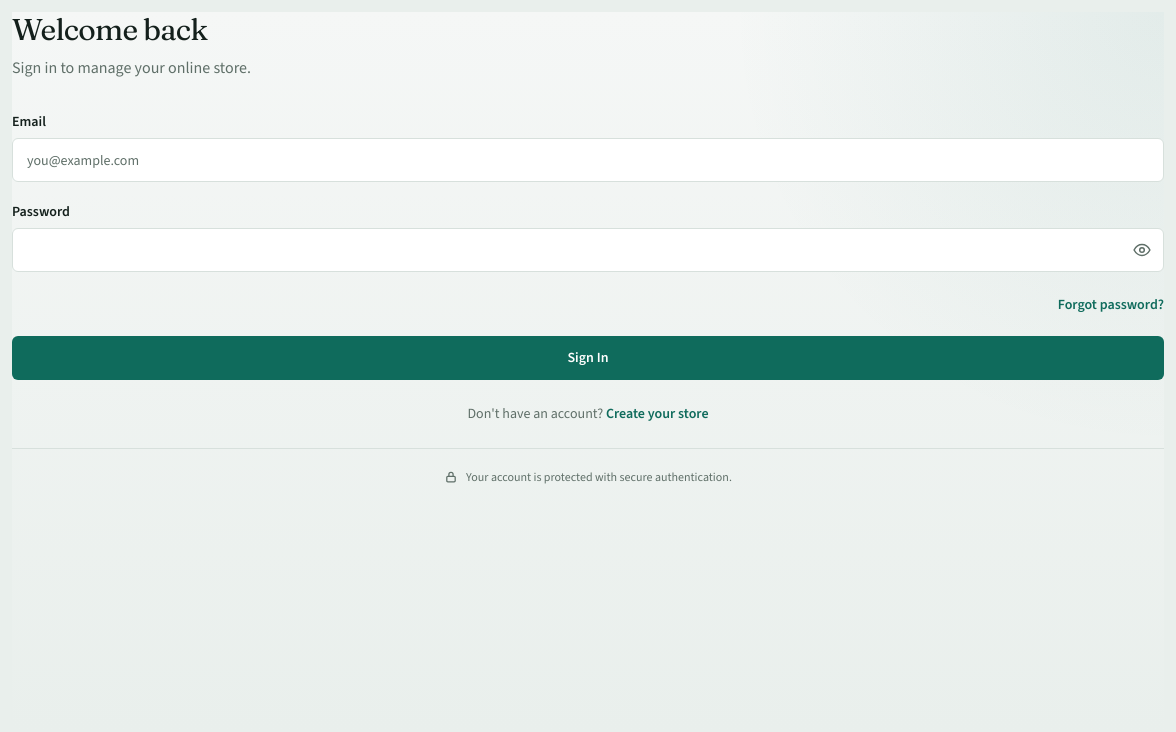
Test case: Login form › shows a friendly message for invalid credentials
Type "merchant@example.com" into the field labelled "Email" at (588, 160), box [12, 138, 1164, 182]
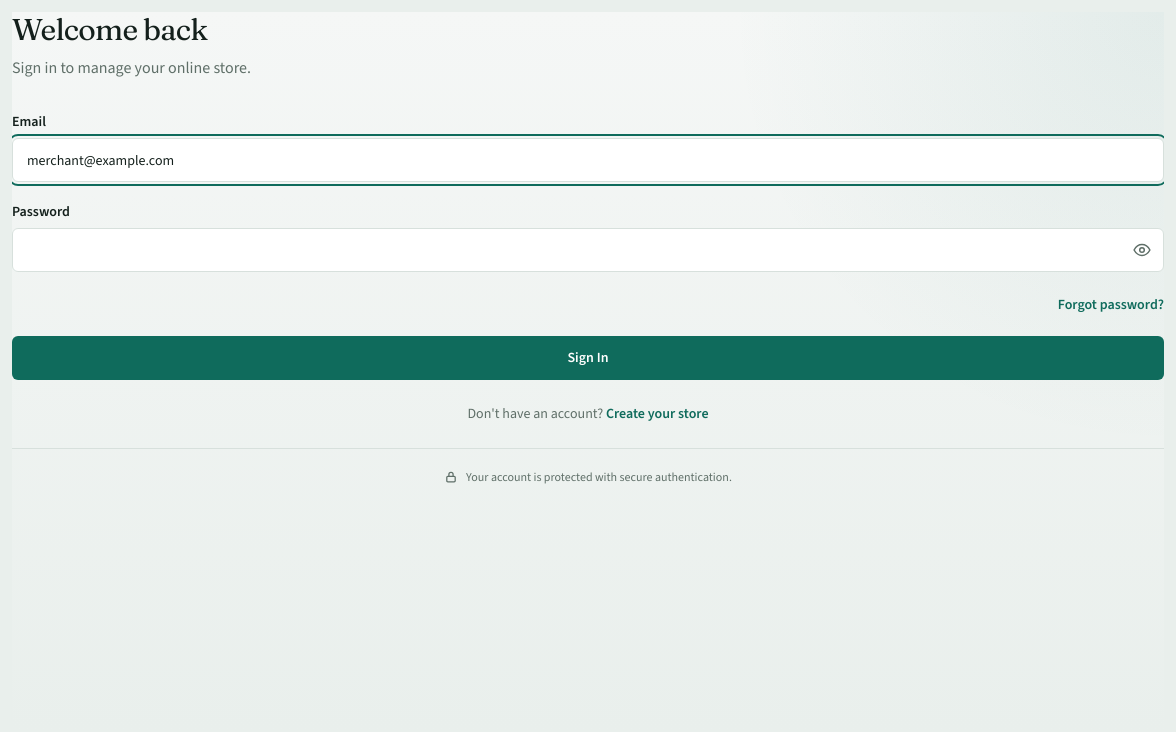
Type "wrong" into the password field labelled "Password" at (588, 250), box [12, 228, 1164, 272]
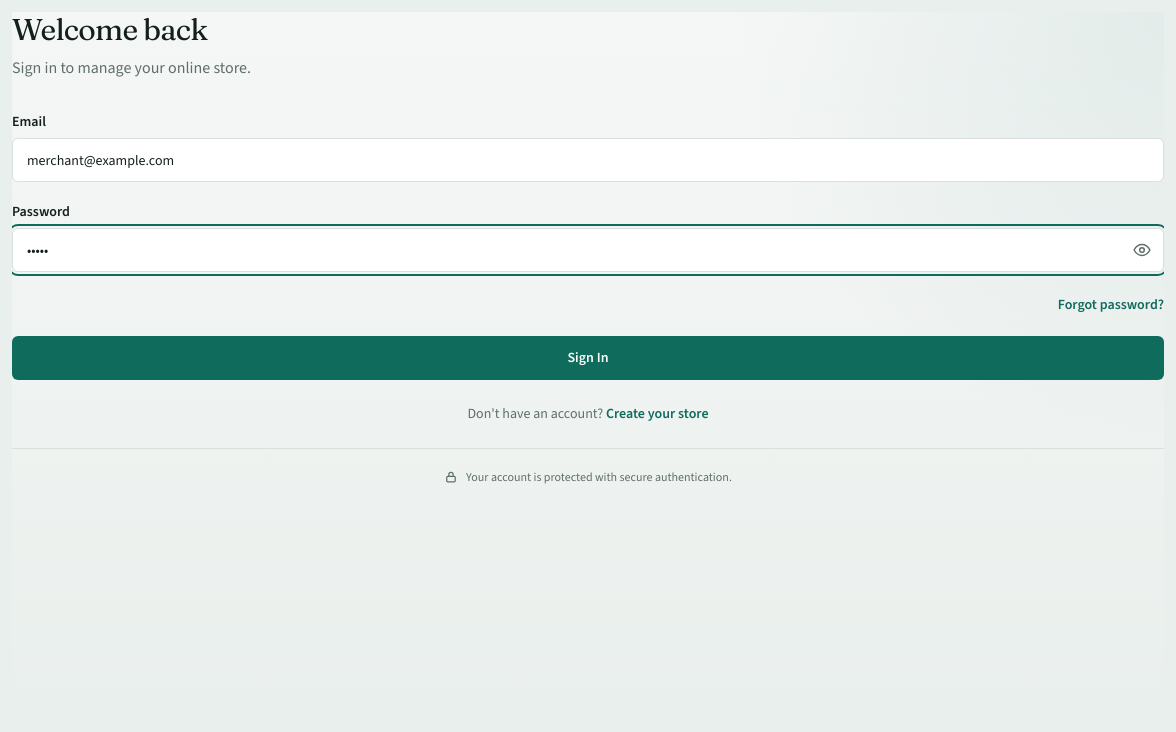
Click the button "Sign In" at (588, 358), box [12, 336, 1164, 380]
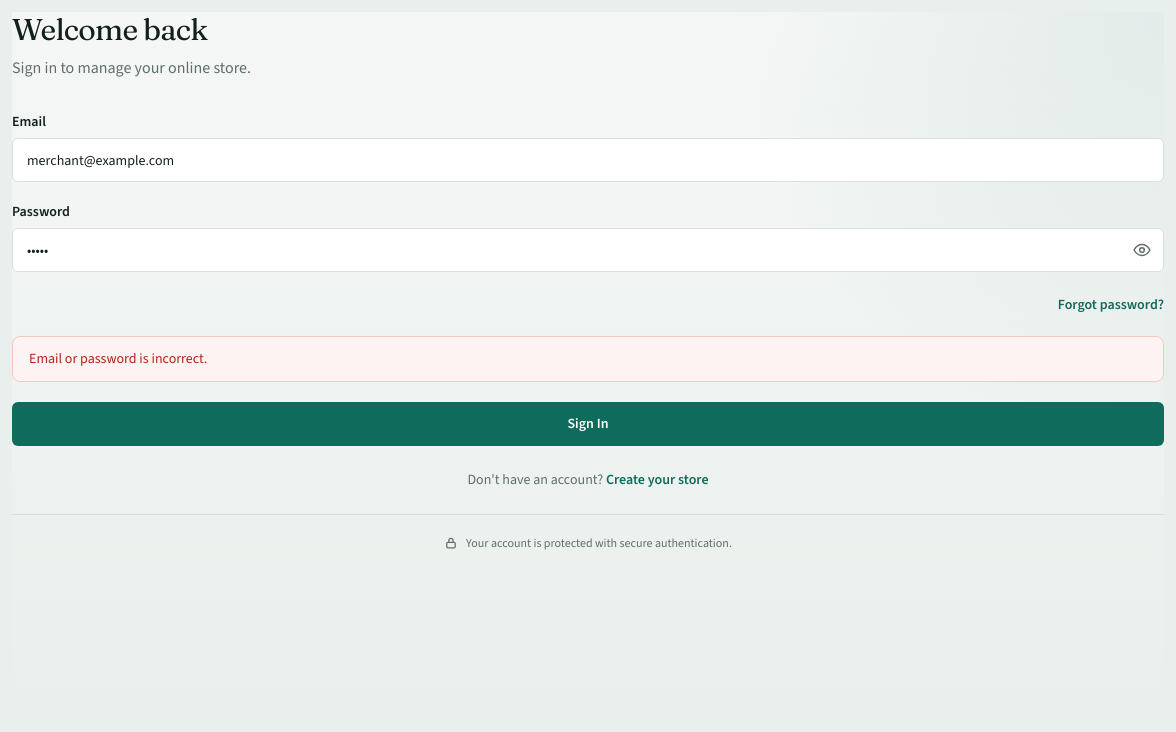
Expected: the message reads "Email or password is incorrect.", [29, 349, 207, 368]
